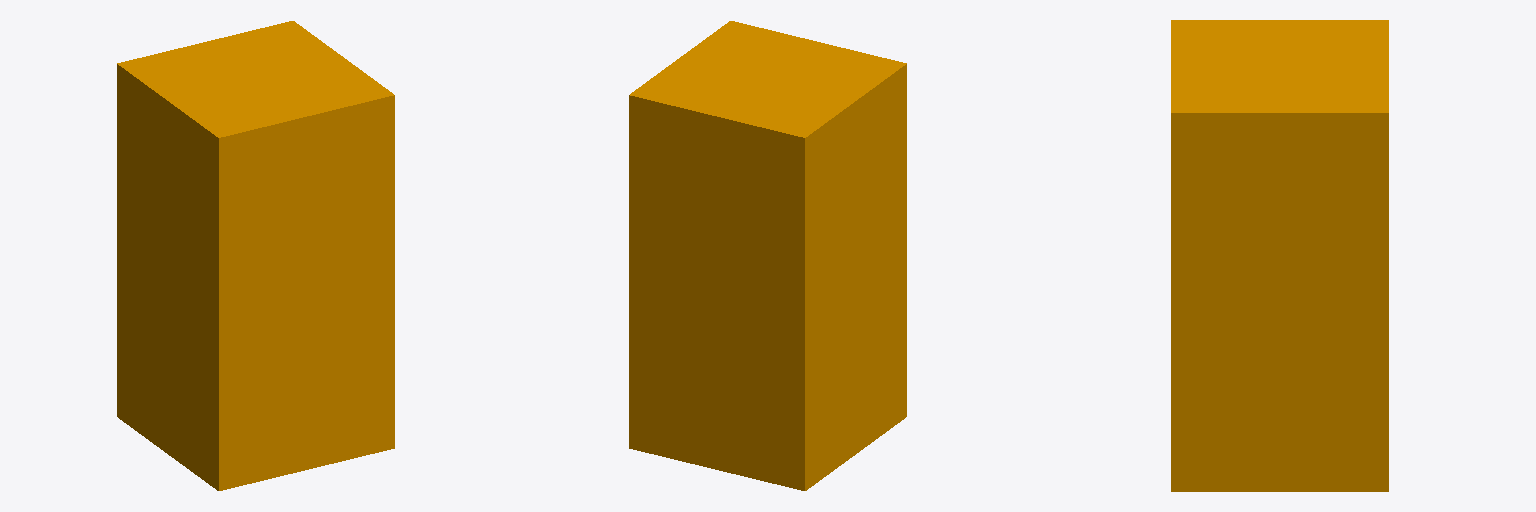
robot.urdf — cube_green:
<robot name="cube_green">
  <link name="link">
    <inertial>
      <origin xyz="0 0 0" />
      <mass value="0.1" />
      <inertia  ixx="0.000208" ixy="0.0"  ixz="0.0"  iyy="0.000208"  iyz="0.0"  izz="0.0000893" />
    </inertial>
    <visual>
      <origin xyz="0 0 0"/>
      <geometry>
        <box size="0.0732 0.0732 0.14" />
      </geometry>
    </visual>
    <collision>
      <origin xyz="0 0 0"/>
      <geometry>
        <box size="0.0732 0.0732 0.14" />
      </geometry>
    </collision>
  </link>
  <gazebo reference="link">
    <material>Gazebo/Green</material>
    <mu1>10000</mu1>
    <mu2>10000</mu2>
  </gazebo>
</robot>

--- What the picture shows (computed from the rendered views, not written in the file) ---
The picture shows the robot from 3 angles, left to right: view 1: azimuth 30°, elevation 25°; view 2: azimuth 150°, elevation 25°; view 3: azimuth 270°, elevation 25°; orthographic projection.
Model cube_green with 1 links and 0 joints (none), rooted at link, posed every joint at zero.
Links seen in each view (by area): view 1: link; view 2: link; view 3: link.
Link boxes in pixels (bbox=[...]): link: bbox=[117, 21, 394, 490]; link: bbox=[629, 21, 906, 490]; link: bbox=[1171, 20, 1388, 491].
Bounding box of the posed robot: 0.0732 × 0.0732 × 0.14 m (x, y, z).
Geometry: primitives only (box / cylinder / sphere), no mesh files.